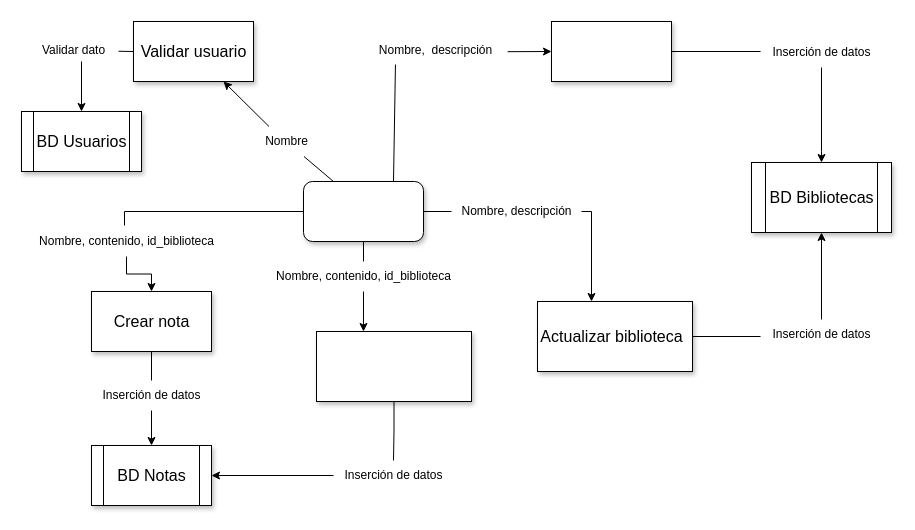
This 915x530 diagram has some shape labels left out. Each missing label, with the centre of its shape:
"Actualizar nota" goes at (395,367).
"Crear biblioteca" goes at (612,52).
"Usuario" goes at (364,212).
